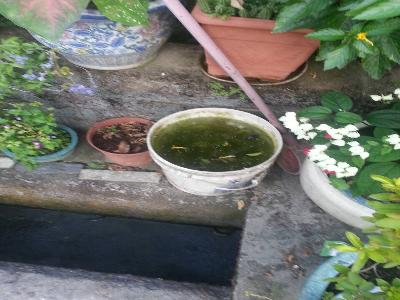bucket: (146, 106, 285, 197)
